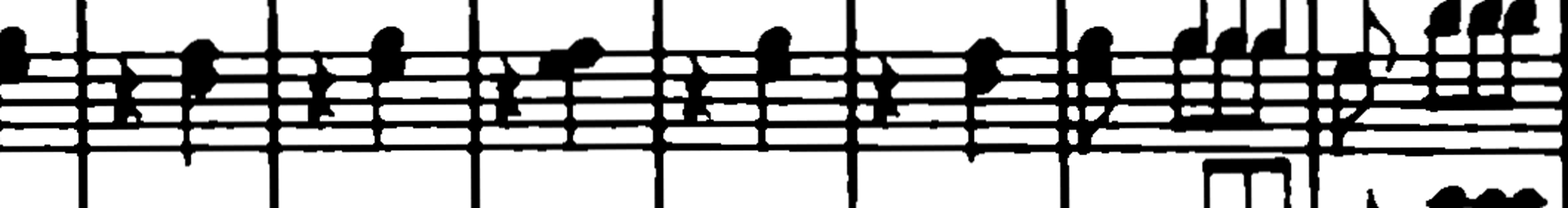arpeggiato: (835, 49, 868, 134), (307, 50, 336, 126)
flag8thUp: (1365, 0, 1396, 71)
noteheadBlackInSpace: (1502, 0, 1536, 33), (1173, 27, 1207, 57), (1430, 0, 1460, 34), (1215, 27, 1247, 57), (1469, 0, 1502, 29), (371, 26, 403, 55), (1079, 27, 1113, 54), (1253, 28, 1285, 55), (758, 26, 791, 52)
noteheadBlackOnLine: (183, 63, 218, 97), (965, 37, 1003, 67), (965, 64, 1001, 94), (181, 39, 217, 67), (568, 37, 602, 66), (1428, 185, 1467, 208), (758, 26, 791, 53), (1082, 58, 1112, 81), (1512, 188, 1545, 207), (1475, 188, 1507, 207), (0, 27, 25, 49), (1076, 140, 1091, 155)
restQuarter: (366, 51, 393, 152), (307, 50, 336, 128), (114, 52, 141, 128), (873, 53, 899, 127), (684, 54, 709, 119)
staff: (255, 35, 1431, 156)
